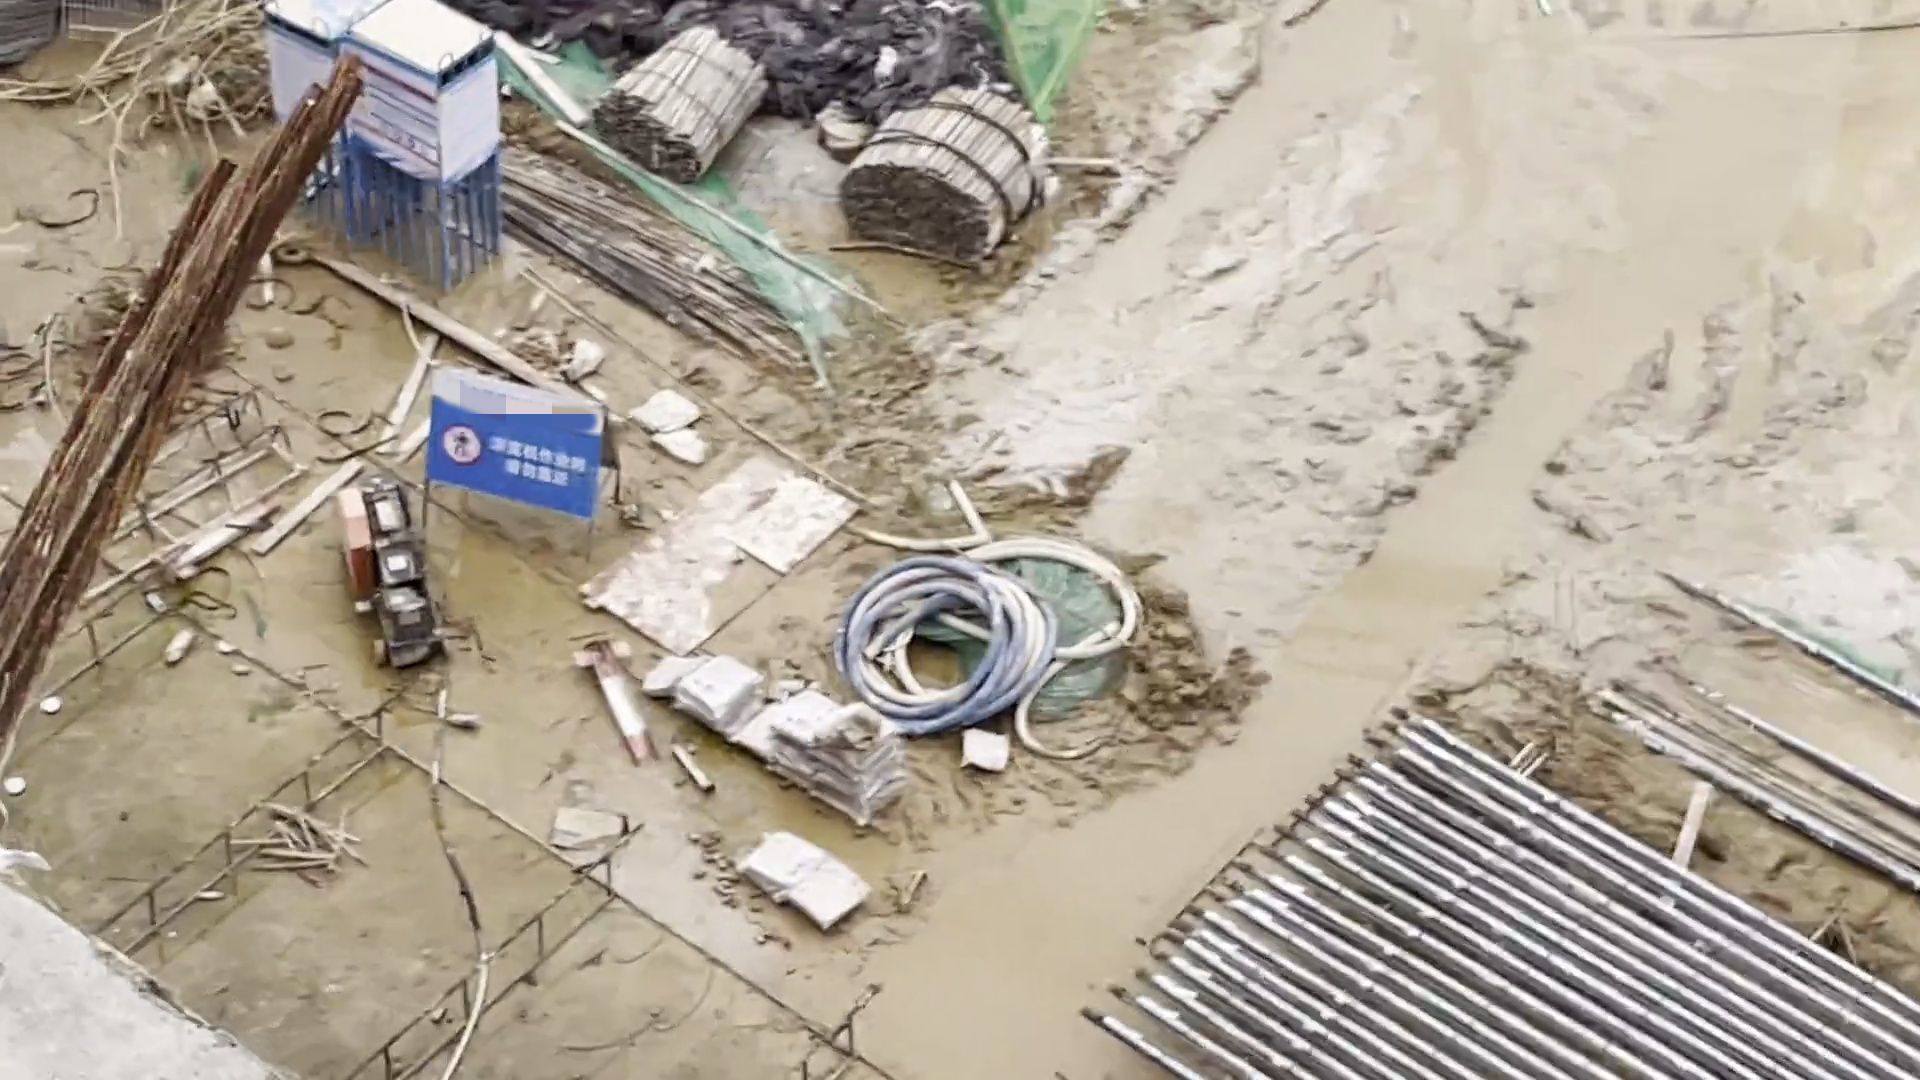slogan: (436, 413, 592, 505)
wood: (837, 80, 1044, 261), (585, 24, 775, 178)
